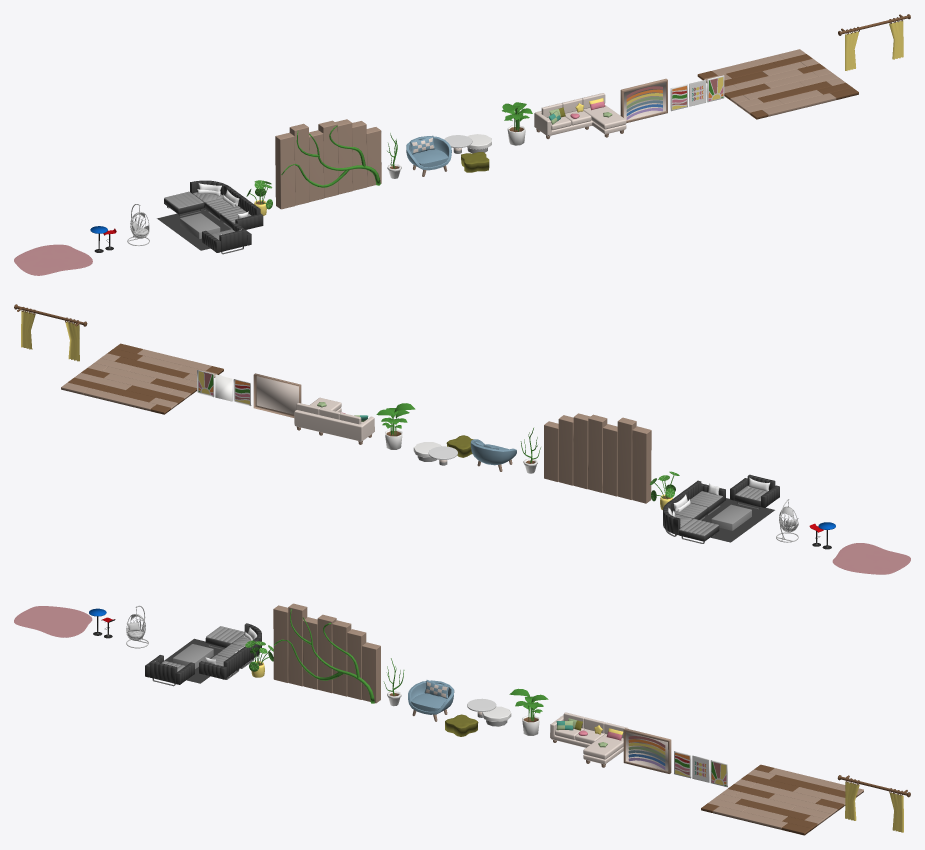
File: Terrace.fbx
3 views of the same model, one above another, from view 1: azimuth 30°, elevation 25°; view 2: azimuth 150°, elevation 25°; view 3: azimuth 330°, elevation 25° (orthographic).
Visible parts, largest first — view 1: Fence_1, Floor, Couch_1, Carpet_1, Picture_1, Curtain_1, Armchair_1, Sofa_05, Plane, Sofa_04, Plant_2, Sofa_01 (+1 smaller); view 2: Fence_1, Floor, Couch_1, Carpet_1, Picture_1, Curtain_1, Sofa_05, Plane, Plant_2, Armchair_1, Sofa_04, Sofa_01 (+1 smaller); view 3: Fence_1, Floor, Couch_1, Carpet_1, Picture_1, Curtain_1, Armchair_1, Sofa_05, Sofa_04, Plant_2, Table, Sofa_01 (+3 smaller).
Boxes of the visible parts, x1,y1,x2,y2 form: Fence_1: (275, 119, 381, 209); Floor: (697, 49, 858, 119); Couch_1: (534, 93, 626, 139); Carpet_1: (14, 244, 92, 275); Picture_1: (620, 78, 667, 122); Curtain_1: (838, 14, 910, 70); Armchair_1: (406, 136, 451, 176); Sofa_05: (202, 223, 251, 254); Plane: (157, 208, 230, 250); Sofa_04: (220, 198, 263, 229); Plant_2: (502, 102, 532, 145); Sofa_01: (164, 191, 203, 216); Fence_1: (544, 413, 651, 503); Floor: (61, 343, 223, 414); Couch_1: (294, 397, 374, 444); Carpet_1: (832, 543, 910, 574); Picture_1: (253, 373, 301, 417); Curtain_1: (14, 304, 87, 361); Sofa_05: (730, 474, 779, 509); Plane: (701, 498, 774, 542); Plant_2: (376, 403, 415, 449); Armchair_1: (470, 439, 516, 471); Sofa_04: (683, 480, 725, 514); Sofa_01: (679, 518, 719, 543); Fence_1: (273, 603, 380, 703); Floor: (701, 764, 863, 835); Couch_1: (550, 712, 628, 767); Carpet_1: (14, 606, 92, 637); Picture_1: (623, 728, 671, 773); Curtain_1: (837, 775, 910, 832); Armchair_1: (408, 680, 454, 721); Sofa_05: (145, 655, 194, 686); Sofa_04: (199, 651, 242, 679); Plant_2: (509, 688, 548, 735); Table: (173, 644, 213, 668); Sofa_01: (205, 626, 244, 649).
Bounding box in the file's own units: 3977 × 333 × 506.
